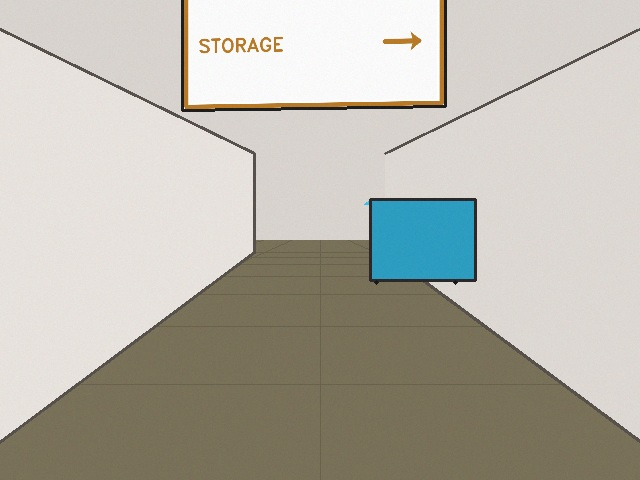cart: (364, 199, 475, 280)
directional_sign: (182, 0, 445, 110)
